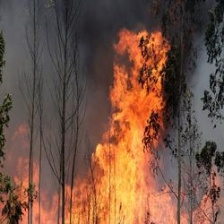fire: (102, 33, 180, 224), (3, 122, 96, 224)
